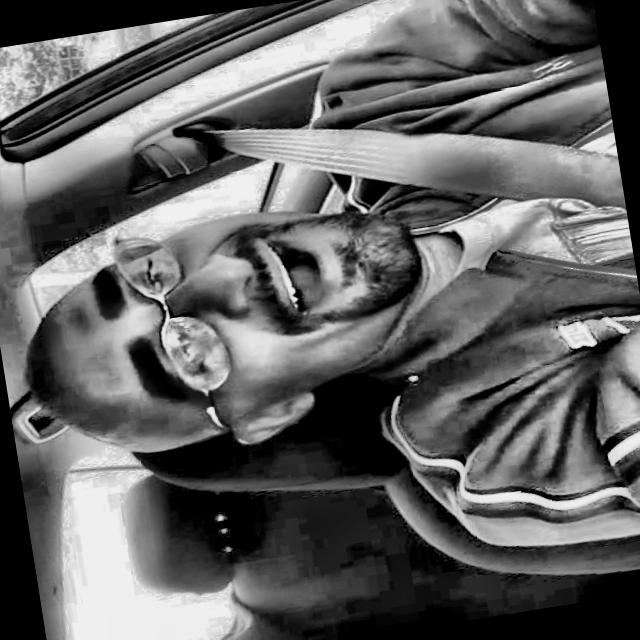open_mouth: (250, 223, 357, 323)
